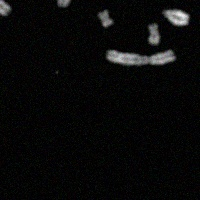chromosome: (107, 49, 176, 64), (161, 9, 188, 26), (148, 24, 160, 46), (98, 10, 113, 27), (56, 0, 77, 8), (0, 0, 9, 15)
